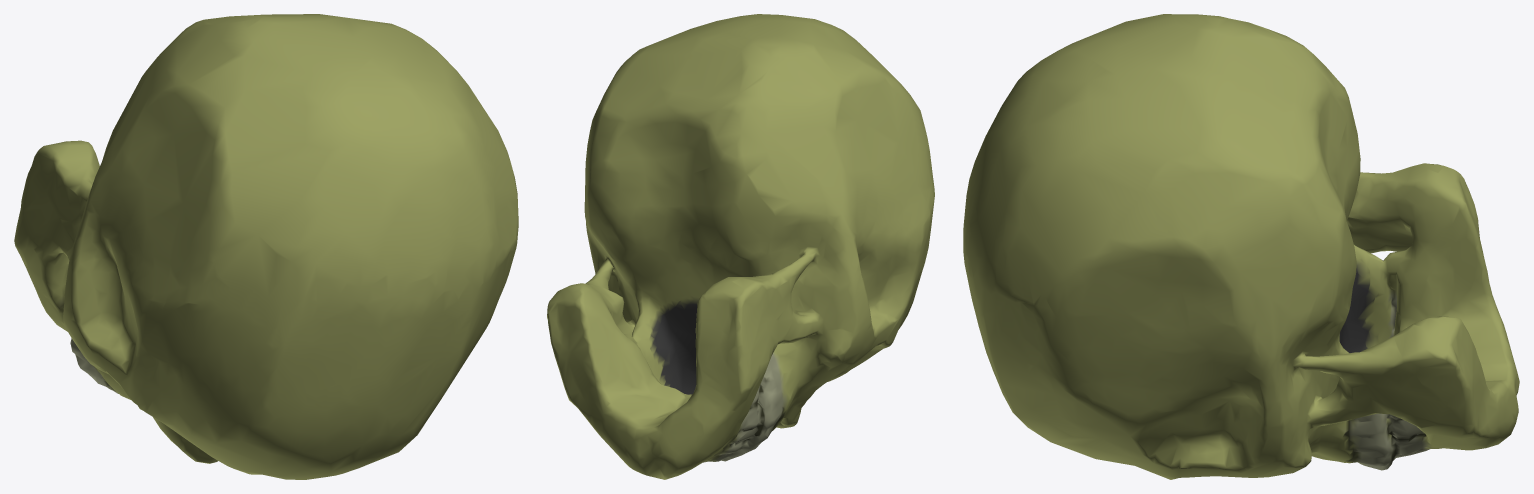
The model's file is skulls002.obj.
3 views of the same model, side by side, from view 1: azimuth 30°, elevation 25°; view 2: azimuth 150°, elevation 25°; view 3: azimuth 270°, elevation 25° (orthographic). The views are drawn at different scales.
Visible parts, largest first — view 1: Layer_1; view 2: Layer_1; view 3: Layer_1.
Part boxes in pixels (<box>): Layer_1: <box>14,14,518,479</box>; Layer_1: <box>547,14,934,479</box>; Layer_1: <box>963,14,1519,479</box>.
Size of the model in its own units: 17.46 by 20.83 by 23.47.
